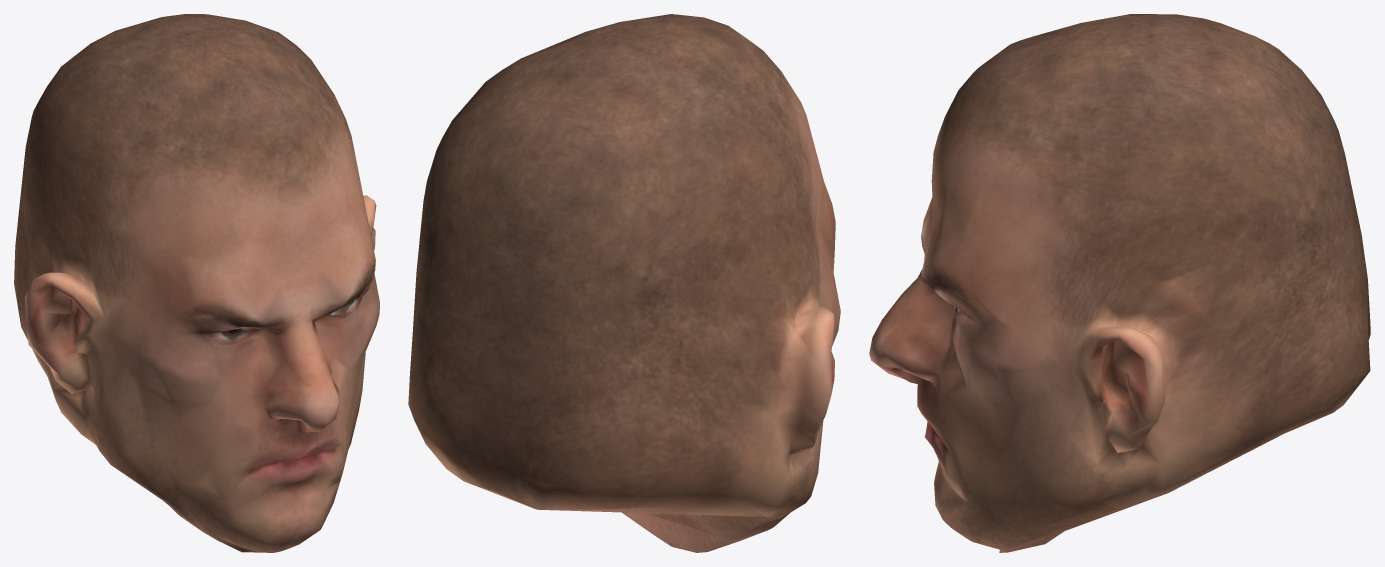
The model's file is head_0.FBX.
3 views of the same model, side by side, from view 1: azimuth 30°, elevation 25°; view 2: azimuth 150°, elevation 25°; view 3: azimuth 270°, elevation 25° (orthographic). The views are drawn at different scales.
Parts seen in each view (by area): view 1: head; view 2: head; view 3: head.
Boxes of the visible parts, x1,y1,x2,y2 form: head: (14, 14, 379, 552); head: (408, 14, 840, 552); head: (869, 14, 1370, 552).
Bounding box in the file's own units: 48.57 × 63.11 × 55.54.
